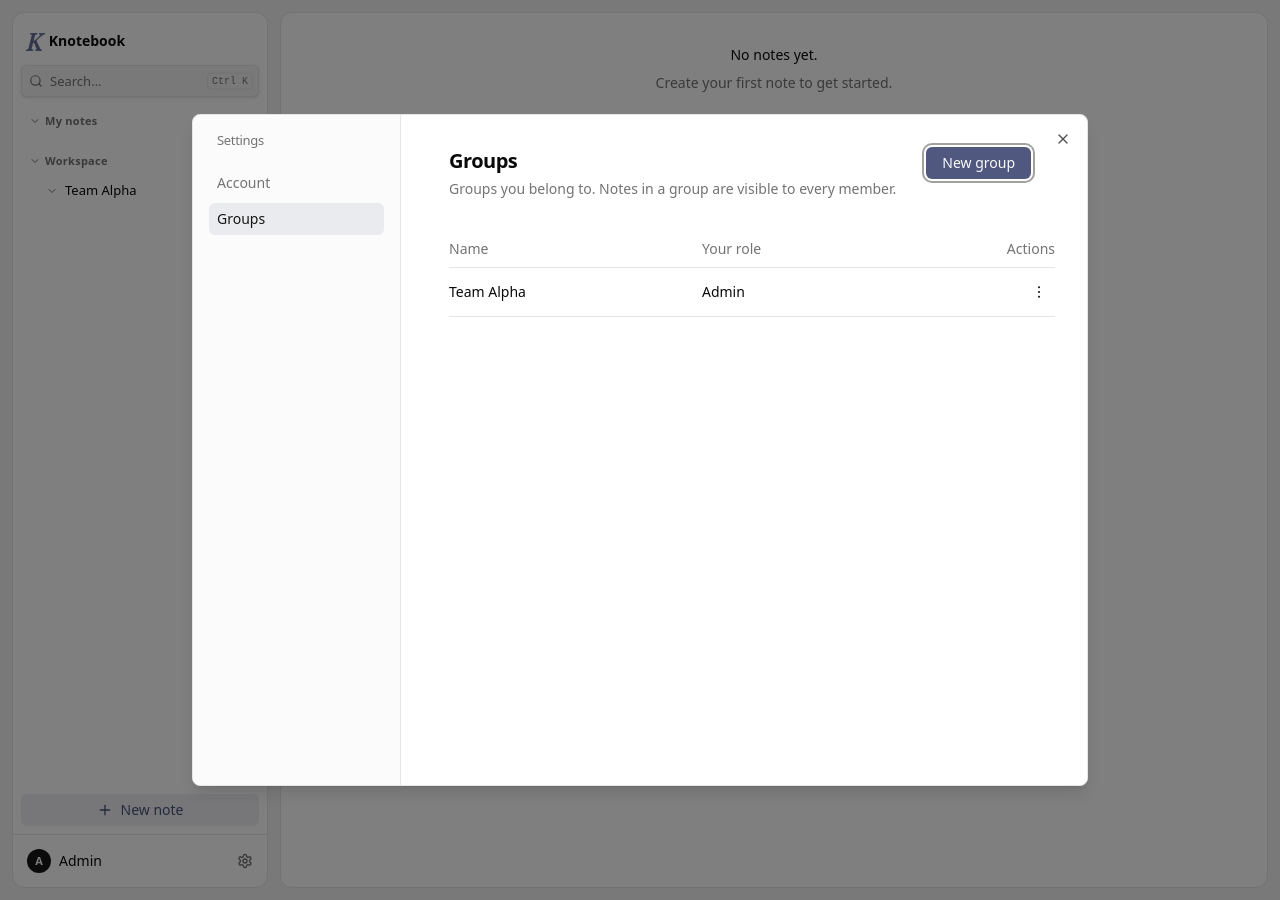
Scenario: SettingsModal（spec §13.4：兩棵 Routes 樹、modal-over-background） › #103：深連結 /settings/groups（沒有 backgroundLocation）→ ⋮ → Members & settings → 一次 Esc 就沒有 dialog
This screenshot has width=1280, height=900.
Expected: the link "Team Alpha" is shown, left=449, top=282, right=526, bottom=301
Press the mouse on the button named "Group actions for Team Alpha": x=1039, y=292 left=1023, top=276, right=1055, bottom=308
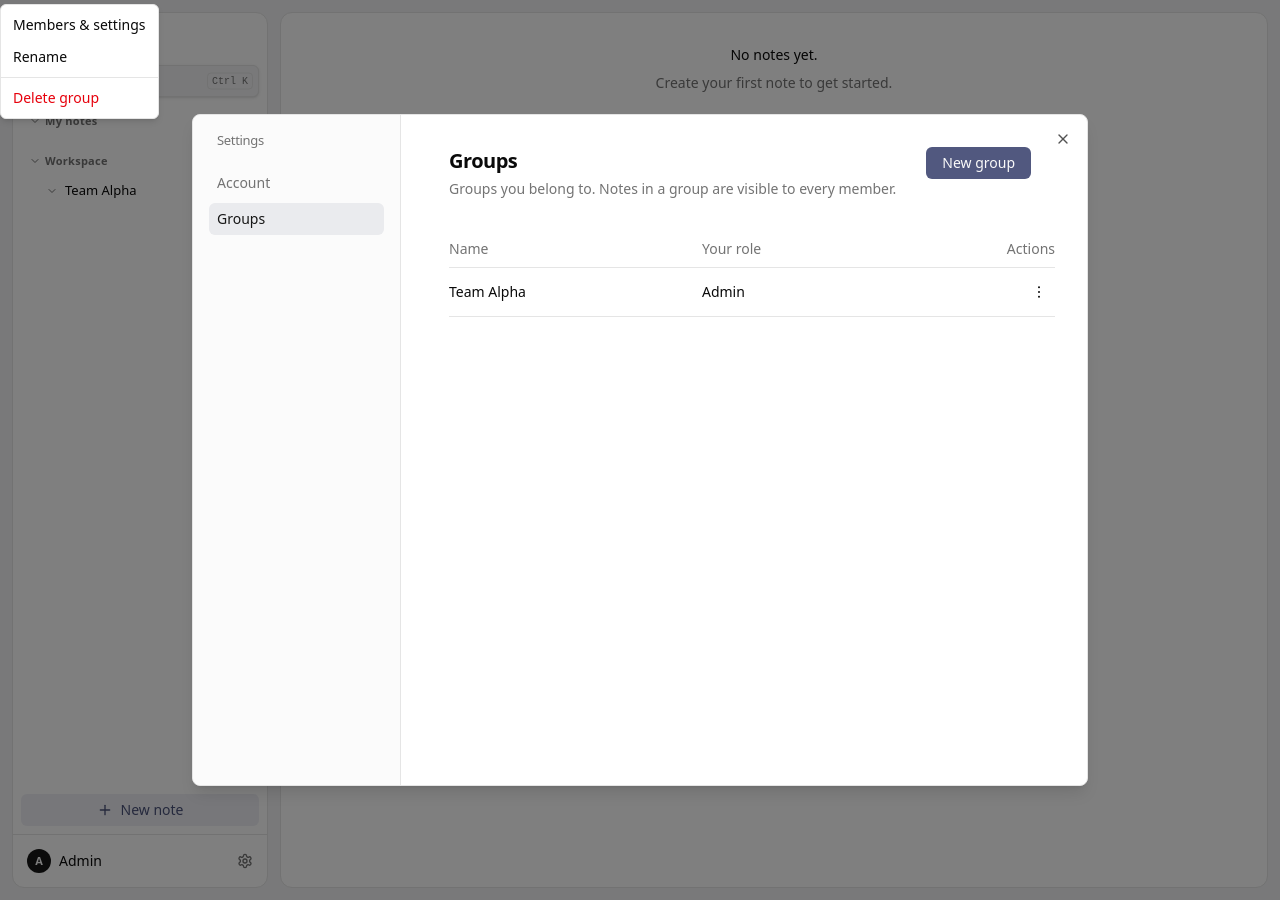
Click the menu item "Members & settings": x=79, y=24 left=13, top=15, right=146, bottom=34
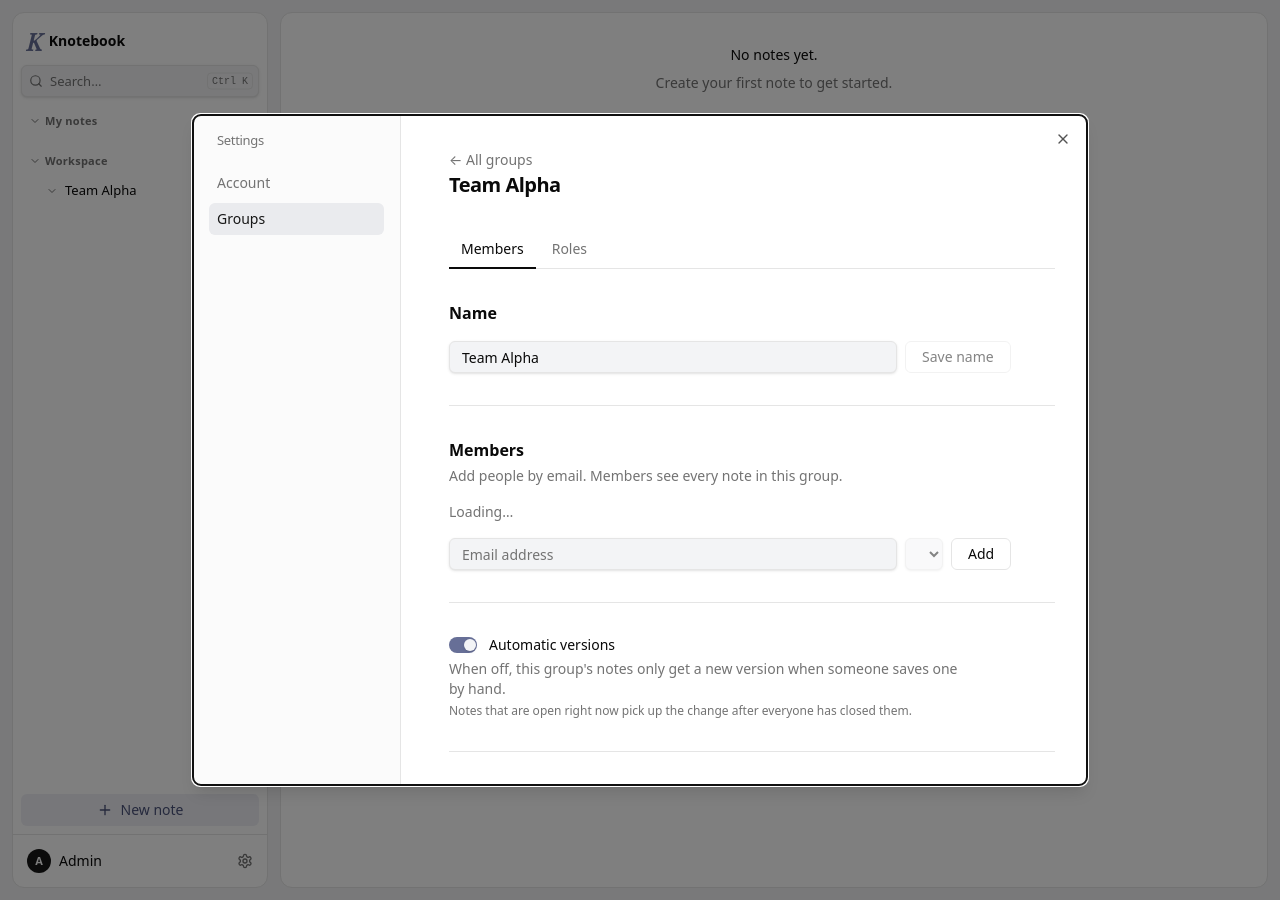
Expected: the heading "Team Alpha" is shown, left=449, top=171, right=561, bottom=199
Press Escape
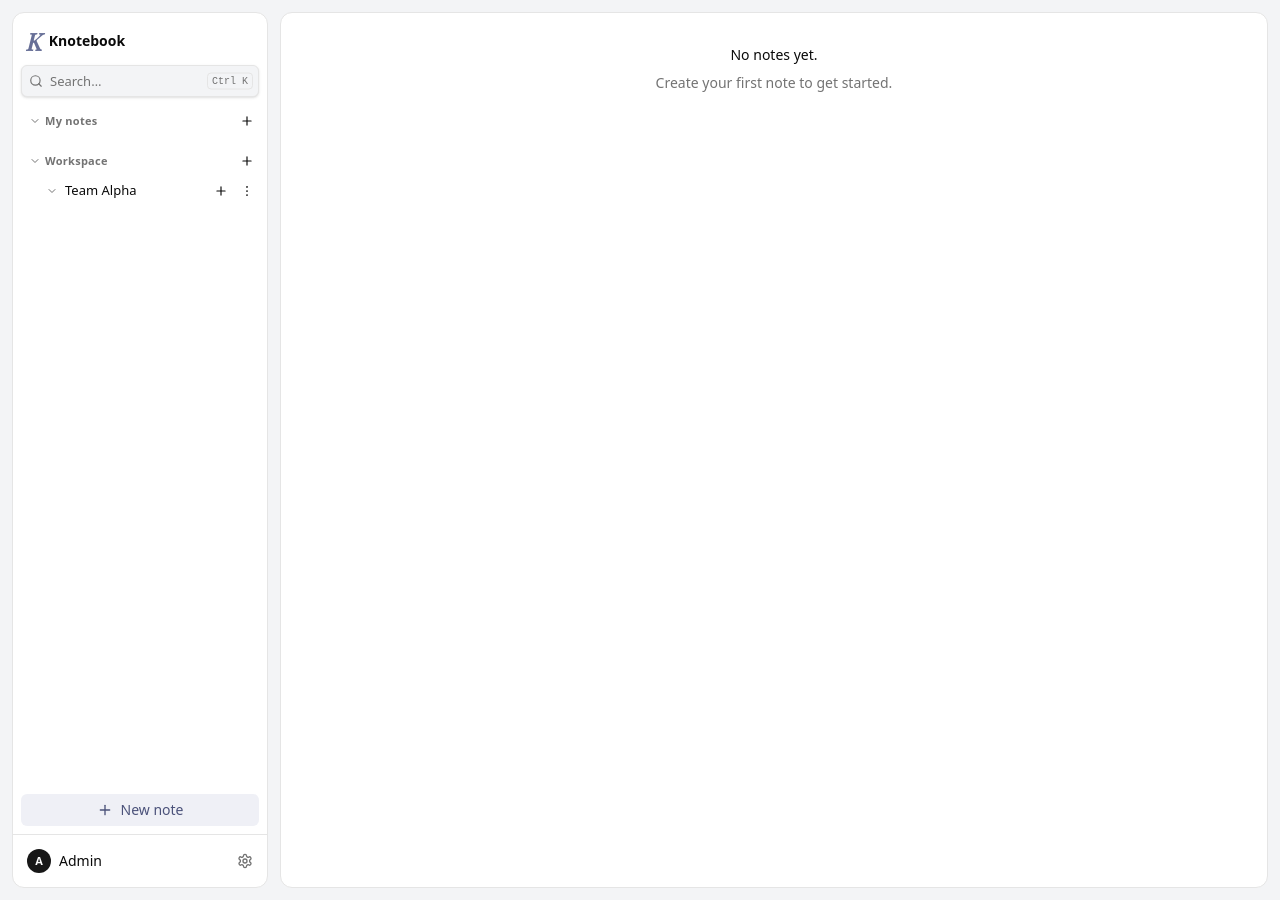
Expected: the dialog is gone
